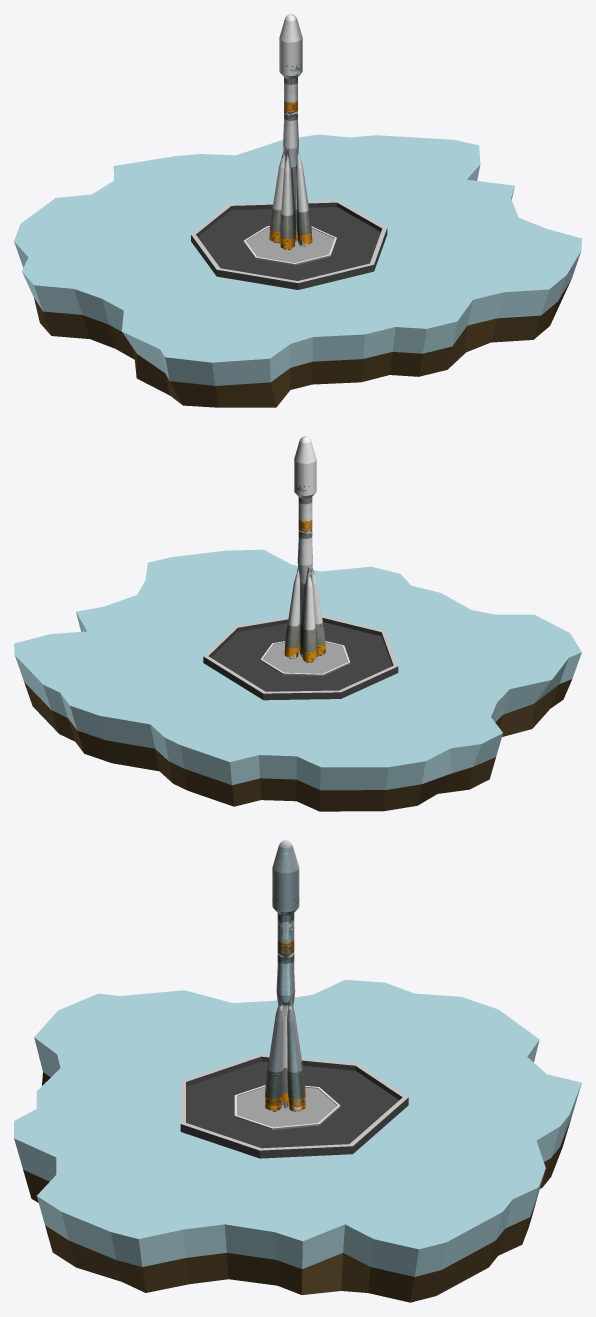
File: soyuz2-v2.gltf
The picture shows the model from 3 angles, top to bottom: view 1: azimuth 30°, elevation 25°; view 2: azimuth 150°, elevation 25°; view 3: azimuth 270°, elevation 25°; orthographic projection. The views are drawn at different scales.
Parts seen in each view (by area): view 1: Plane, Circle.001, Cylinder.001, Cylinder.002; view 2: Plane, Circle.001, Cylinder.001, Cylinder.002; view 3: Plane, Circle.001, Cylinder.001, Cylinder.002.
Part boxes in pixels (box(x1,y1,x2,y2)): Plane: box(14, 134, 581, 407); Circle.001: box(191, 200, 387, 289); Cylinder.001: box(269, 14, 312, 250); Cylinder.002: box(243, 226, 336, 265); Plane: box(14, 549, 581, 811); Circle.001: box(203, 615, 398, 700); Cylinder.001: box(284, 436, 325, 662); Cylinder.002: box(260, 641, 350, 676); Plane: box(14, 979, 581, 1302); Circle.001: box(180, 1054, 408, 1158); Cylinder.001: box(265, 840, 305, 1112); Cylinder.002: box(234, 1085, 340, 1130).
Size of the model in its own units: 8.06 by 4.62 by 7.18.
9 materials, 2 textured.
